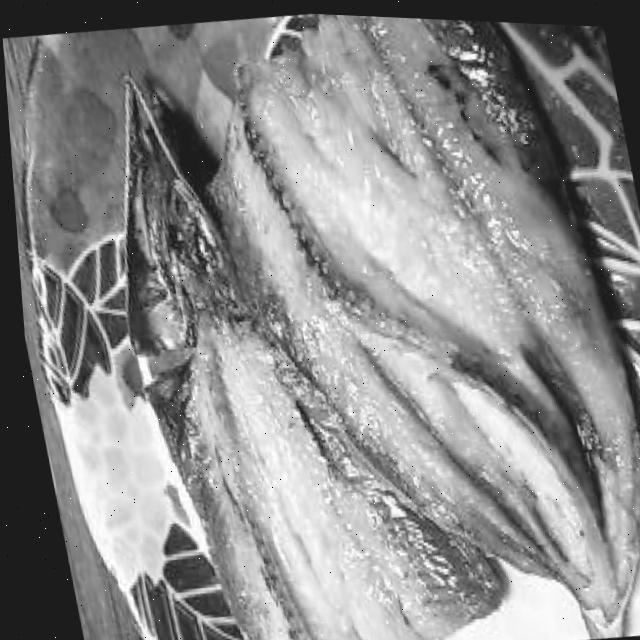熟制海鲜: (67, 2, 640, 640)
